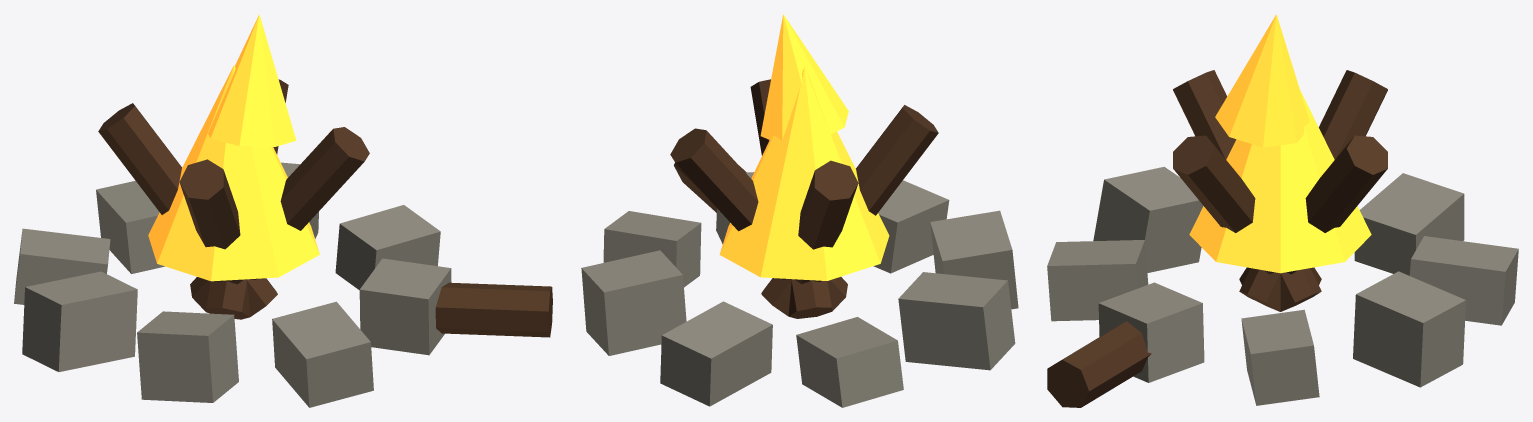
Rendered from campfire_t1.glb.
The picture shows the model from 3 angles, left to right: view 1: azimuth 30°, elevation 25°; view 2: azimuth 150°, elevation 25°; view 3: azimuth 270°, elevation 25°; orthographic projection. The views are drawn at different scales.
Visible parts, largest first — view 1: flame_placeholder, stone_ring_04, stone_ring_05, stone_ring_06, stone_ring_07, flame_tip, log_fallen, stone_ring_00, log_01, log_03, stone_ring_03, stone_ring_02 (+2 smaller); view 2: flame_placeholder, stone_ring_04, stone_ring_02, stone_ring_01, stone_ring_03, log_02, log_00, stone_ring_05, flame_tip, stone_ring_00, stone_ring_06, log_01 (+2 smaller); view 3: flame_placeholder, stone_ring_01, stone_ring_05, stone_ring_03, flame_tip, stone_ring_02, stone_ring_07, stone_ring_06, stone_ring_00, log_fallen, log_03, log_00 (+2 smaller).
Part boxes in pixels (x1,y1,x2,y2): flame_placeholder: (148, 65, 319, 281); stone_ring_04: (22, 271, 137, 371); stone_ring_05: (137, 311, 238, 402); stone_ring_06: (272, 301, 373, 407); stone_ring_07: (359, 258, 451, 355); flame_tip: (208, 14, 296, 146); log_fallen: (435, 282, 552, 337); stone_ring_00: (335, 205, 440, 289); log_01: (98, 103, 277, 316); log_03: (190, 127, 369, 311); stone_ring_03: (14, 228, 110, 304); stone_ring_02: (96, 180, 164, 273); flame_placeholder: (719, 67, 889, 280); stone_ring_04: (898, 272, 1015, 370); stone_ring_02: (660, 301, 772, 406); stone_ring_01: (581, 250, 686, 355); stone_ring_03: (796, 317, 903, 407); log_02: (761, 105, 938, 316); log_00: (670, 128, 847, 311); stone_ring_05: (930, 210, 1018, 309); flame_tip: (760, 14, 848, 140); stone_ring_00: (603, 211, 701, 287); stone_ring_06: (873, 180, 949, 273); log_01: (795, 160, 858, 284); flame_placeholder: (1189, 90, 1371, 273); stone_ring_01: (1353, 271, 1465, 387); stone_ring_05: (1093, 166, 1203, 272); stone_ring_03: (1354, 173, 1464, 275); flame_tip: (1215, 14, 1309, 147); stone_ring_02: (1409, 236, 1518, 325); stone_ring_07: (1098, 282, 1204, 382); stone_ring_06: (1047, 240, 1148, 321); stone_ring_00: (1241, 309, 1319, 405); log_fallen: (1047, 321, 1151, 407); log_03: (1173, 135, 1321, 299); log_00: (1239, 135, 1387, 299).
Size of what is drawn, in the model's own units: 0.9394 by 0.6438 by 0.8794.
